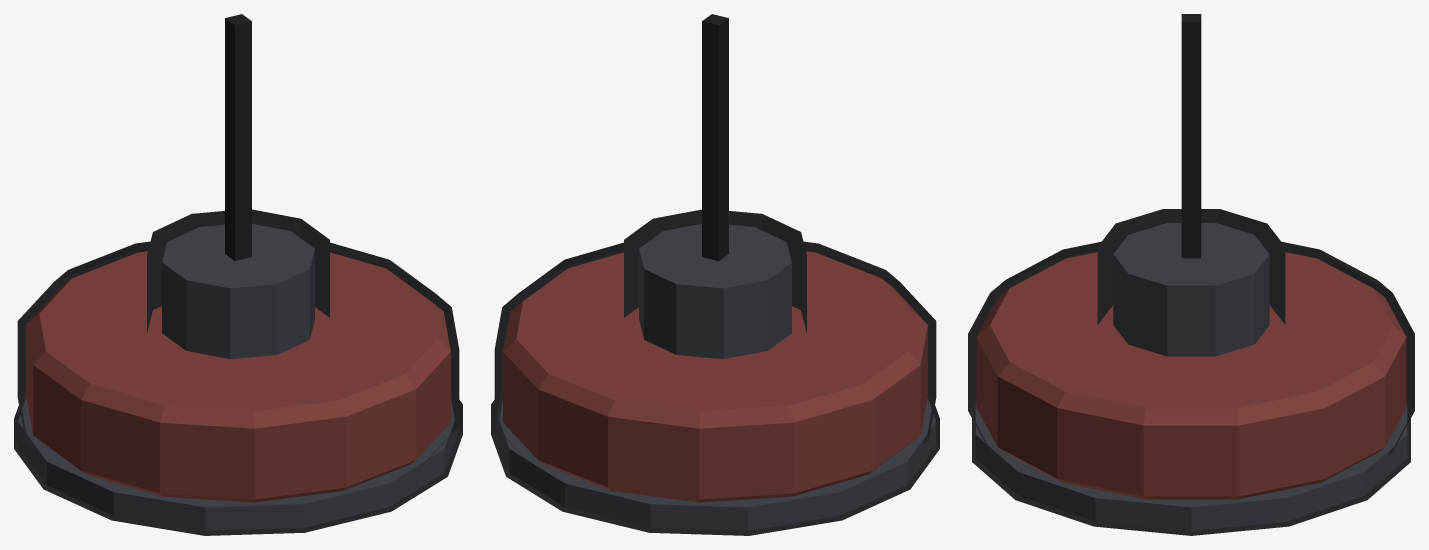
The model's file is SM_CeilingLamp.glb.
3 views of the same model, side by side, from view 1: azimuth 30°, elevation 25°; view 2: azimuth 150°, elevation 25°; view 3: azimuth 270°, elevation 25° (orthographic).
Parts seen in each view (by area): view 1: SM_CeilingLamp, SM_CeilingLamp_Outline; view 2: SM_CeilingLamp, SM_CeilingLamp_Outline; view 3: SM_CeilingLamp, SM_CeilingLamp_Outline.
Boxes of the visible parts, <box> form: SM_CeilingLamp: <box>17,14,459,530</box>; SM_CeilingLamp_Outline: <box>14,209,462,535</box>; SM_CeilingLamp: <box>494,14,936,530</box>; SM_CeilingLamp_Outline: <box>491,209,939,535</box>; SM_CeilingLamp: <box>975,14,1407,530</box>; SM_CeilingLamp_Outline: <box>968,209,1414,535</box>.
Bounding box in the file's own units: 0.6915 × 0.7159 × 0.6858.
Materials: 3 (1 with a texture image).
